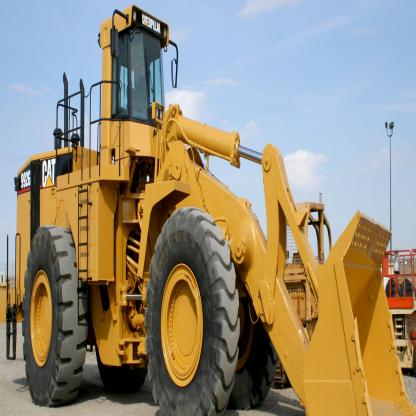bull_dozer/loader/grader: (6, 9, 416, 416)
